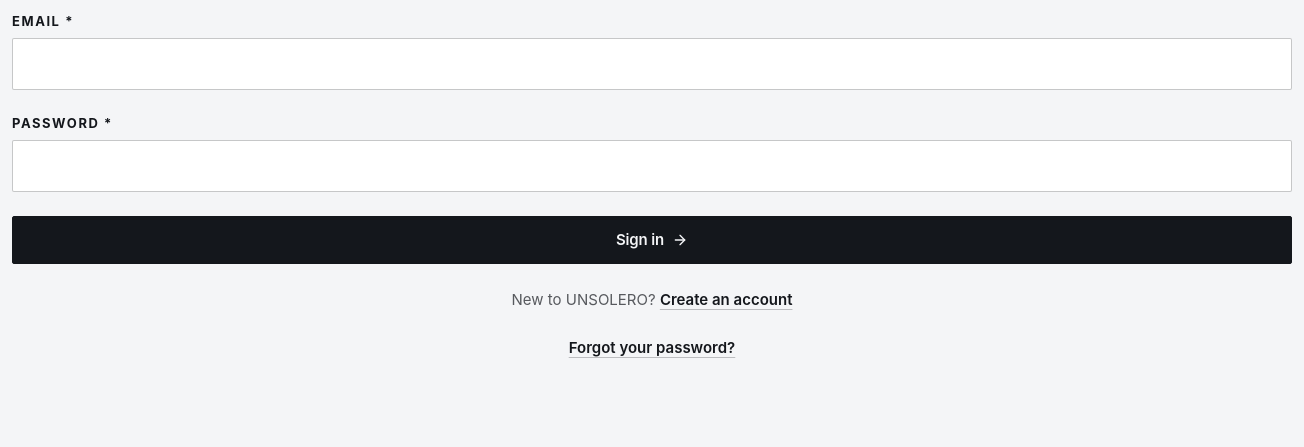
AuthForm › shows safe server authentication errors
Type "person@example.com" into the field labelled "Email *". click: coordinates (652, 64)
box: [12,38,1292,90]
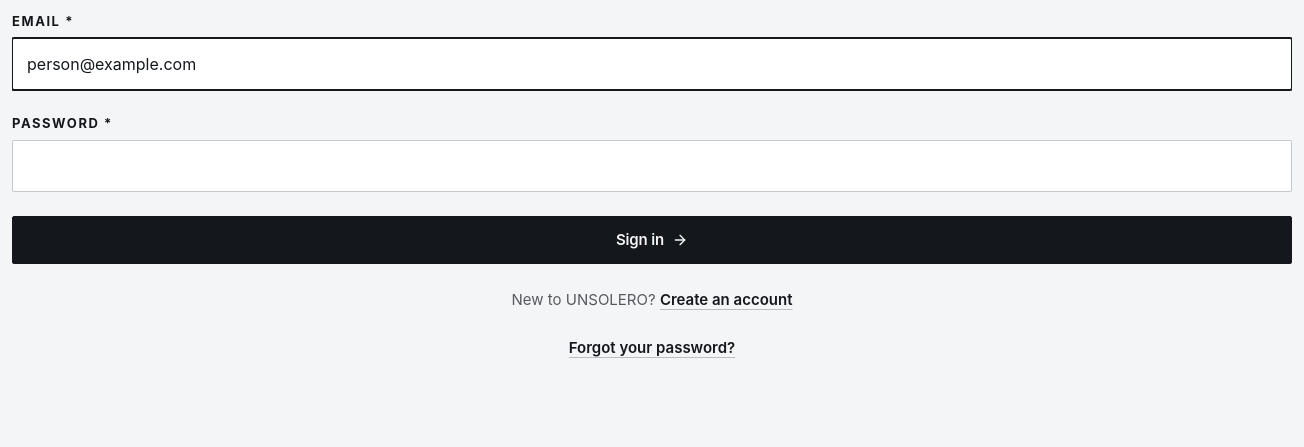
Type "a long secure password" into the password field labelled "Password *". click: coordinates (652, 166)
box: [12,140,1292,192]
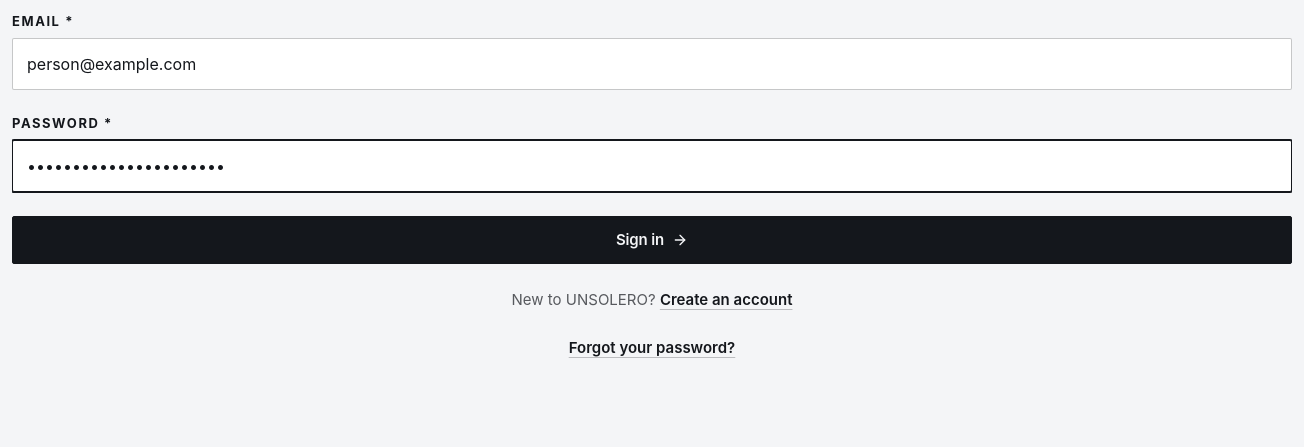
Click the button "Sign in". click: coordinates (652, 240)
box: [12,216,1292,264]
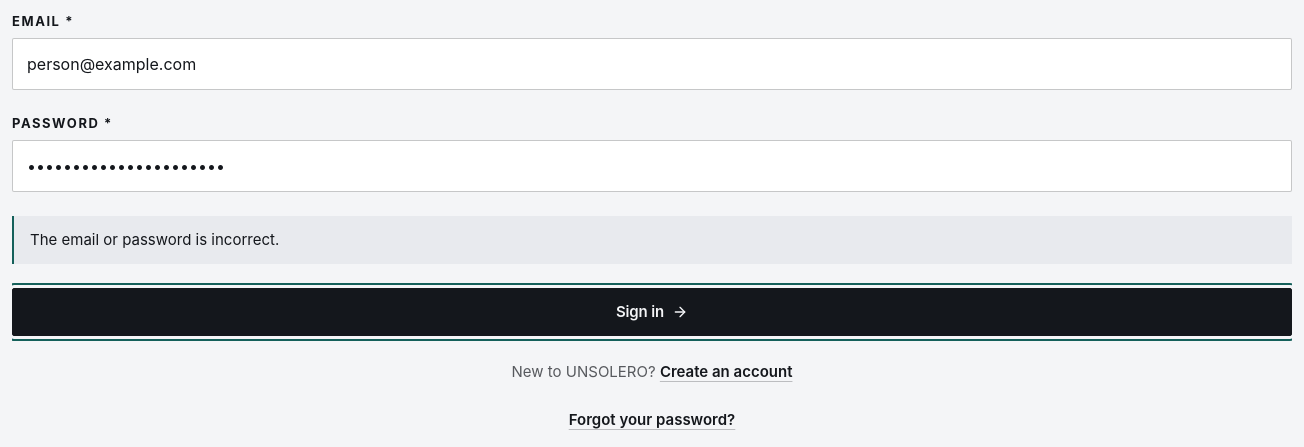
Check: the message shows "email or password is incorrect", box [30,230,279,249]
